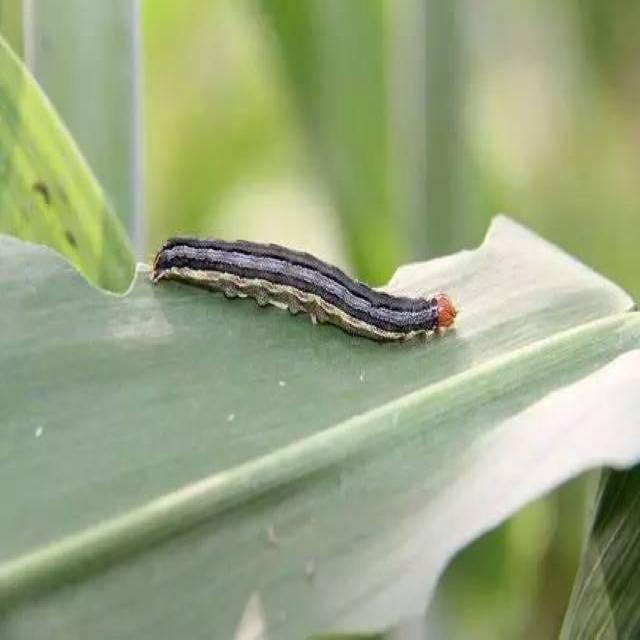pest: (153, 239, 461, 345)
